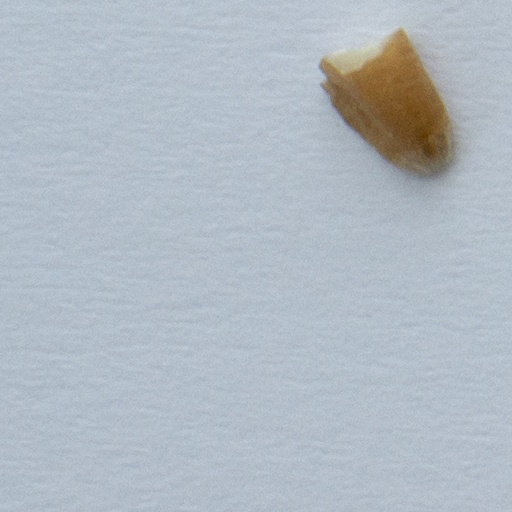Wheat-grain-damaged-poly: (316, 26, 457, 175)
